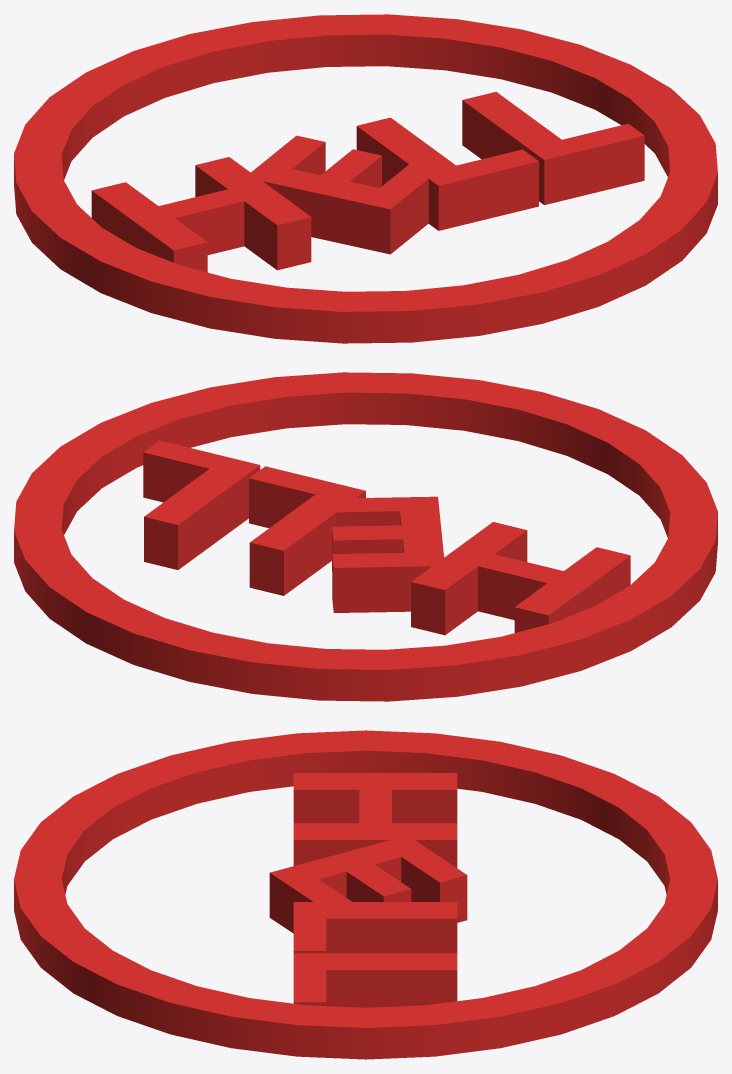
Rendered from hell.glb.
3 views of the same model, one above another, from view 1: azimuth 30°, elevation 25°; view 2: azimuth 150°, elevation 25°; view 3: azimuth 270°, elevation 25° (orthographic).
Visible parts, largest first — view 1: HELL; view 2: HELL; view 3: HELL.
Boxes of the visible parts, x1,y1,x2,y2 form: HELL: [14, 14, 717, 343]; HELL: [14, 372, 717, 701]; HELL: [14, 730, 717, 1059].
Size of the model in its own units: 2.83 by 0.2223 by 2.83.
